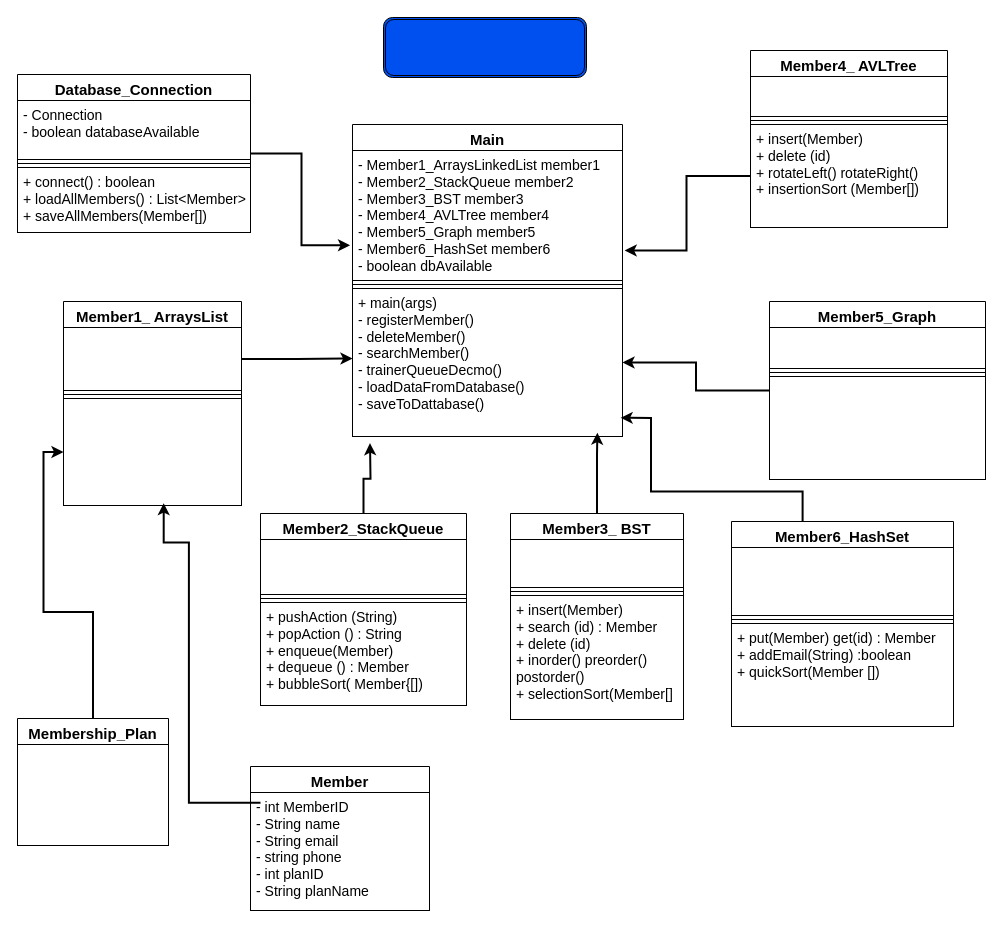
The diagram is 1003 pixels wide and 931 high, and some of its shapes have lost their labels. The centre of each missing label's shape, as x and y in pixels:
+ addReferral(int) + bfs (id) dfs(id) + mergeSort(Member[]): the point at 877,428
+ insert(Member) + delete(id) + linearSearch(id) : Member + toArray() :Member: the point at 152,452
- AVLNode root: the point at 849,96
- int planID - Sting PlanName - int durationMonths - double fee: the point at 92,795
- LinkedList<Member> [] table - HashSet<String> emailSet: the point at 842,581
- Map<integer,List>: the point at 877,347
- MembershipPlan() - Node head: the point at 152,358
- TreeNode root: the point at 597,563
-String () undoStack -Member() trainerQueue: the point at 363,566
UML class diagram: the point at 484,47
